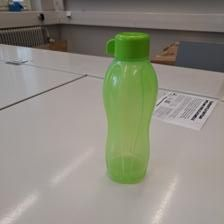bottle: (100, 31, 158, 182)
